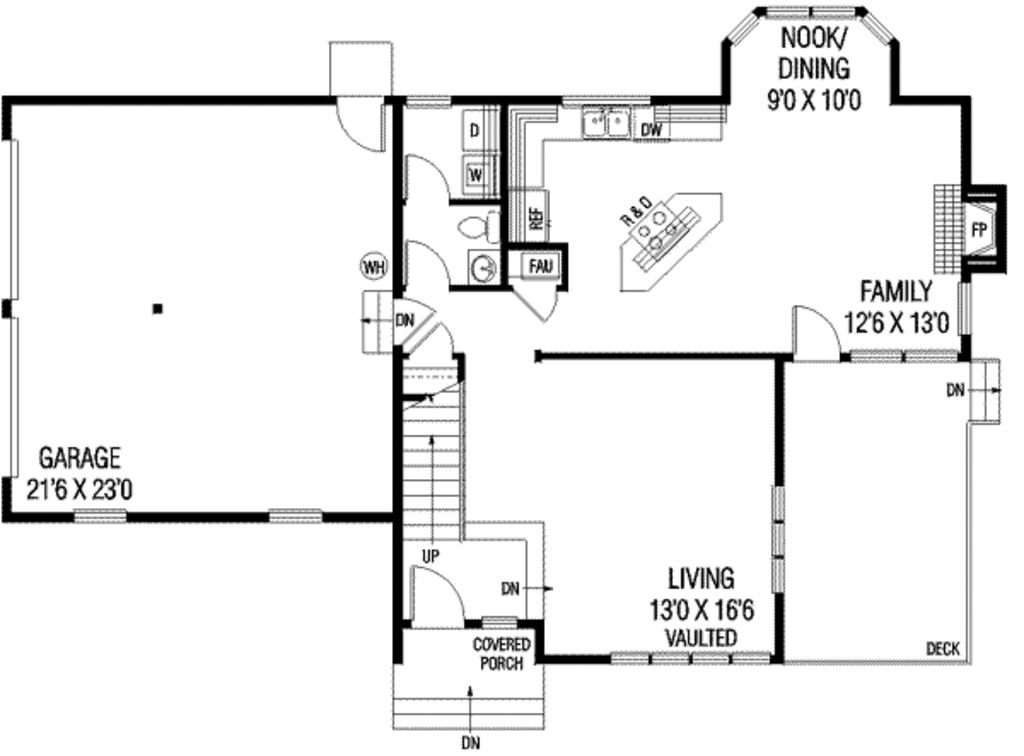door: (778, 291, 849, 362), (404, 568, 474, 640), (326, 90, 395, 160), (394, 236, 458, 298), (393, 151, 454, 204), (401, 321, 464, 367), (387, 294, 441, 345), (513, 281, 567, 328)
kitchen_bar: (600, 178, 736, 297)
large_sink: (448, 205, 506, 250)
small_sink: (464, 247, 500, 287)
stairs: (397, 363, 478, 554), (400, 664, 550, 729), (351, 287, 391, 355), (968, 356, 1008, 423)
twin_sink: (575, 100, 643, 145)
window: (729, 1, 903, 69), (610, 651, 778, 674), (842, 337, 962, 367), (769, 482, 796, 597), (948, 280, 974, 338), (262, 504, 324, 527), (62, 507, 135, 525)
